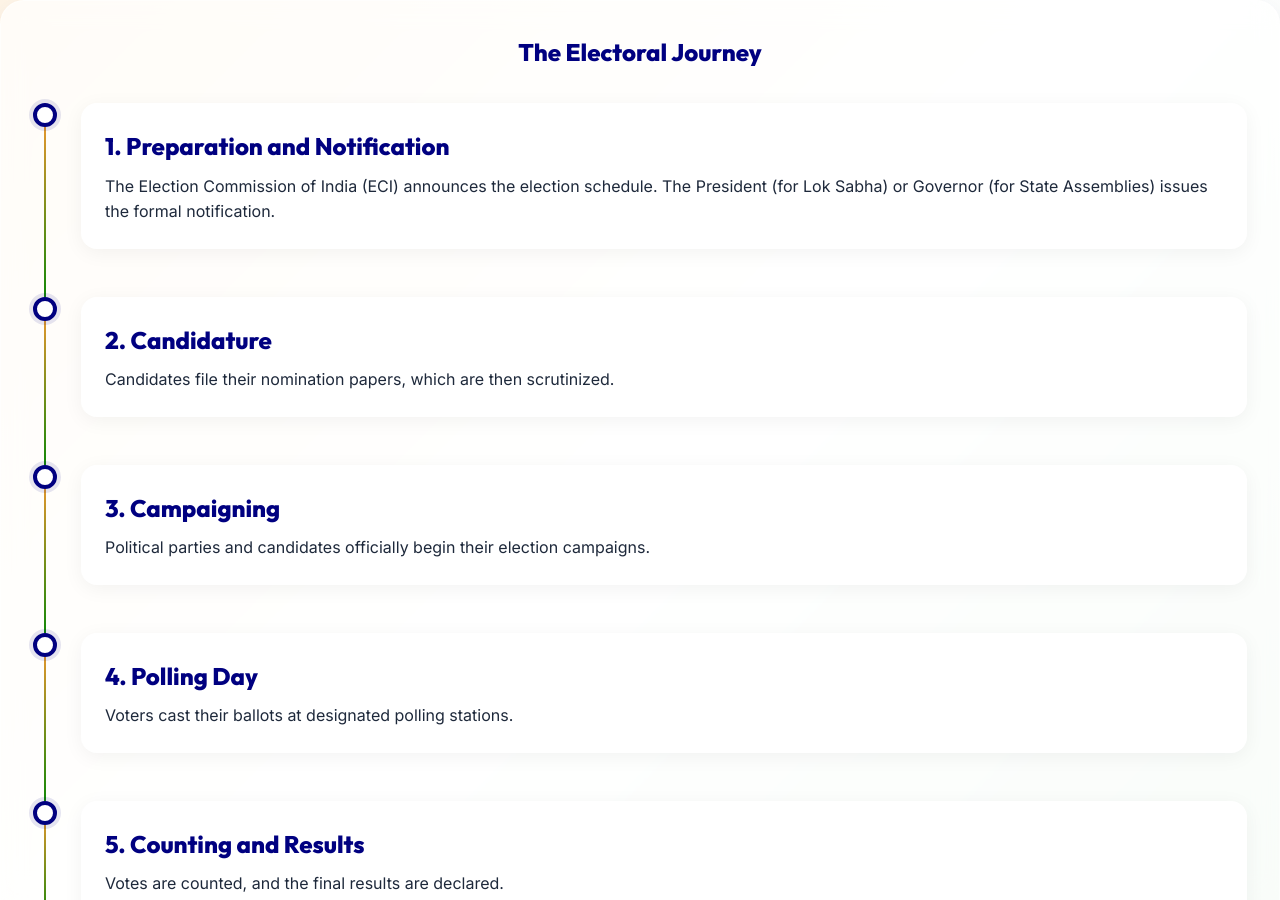
Timeline Component › expands details on click
This screenshot has width=1280, height=900.
Expected: the text "Key Activities:" is not shown
Click the heading "1. Preparation and Notification".
click(277, 146)  # box [105,131,449,161]
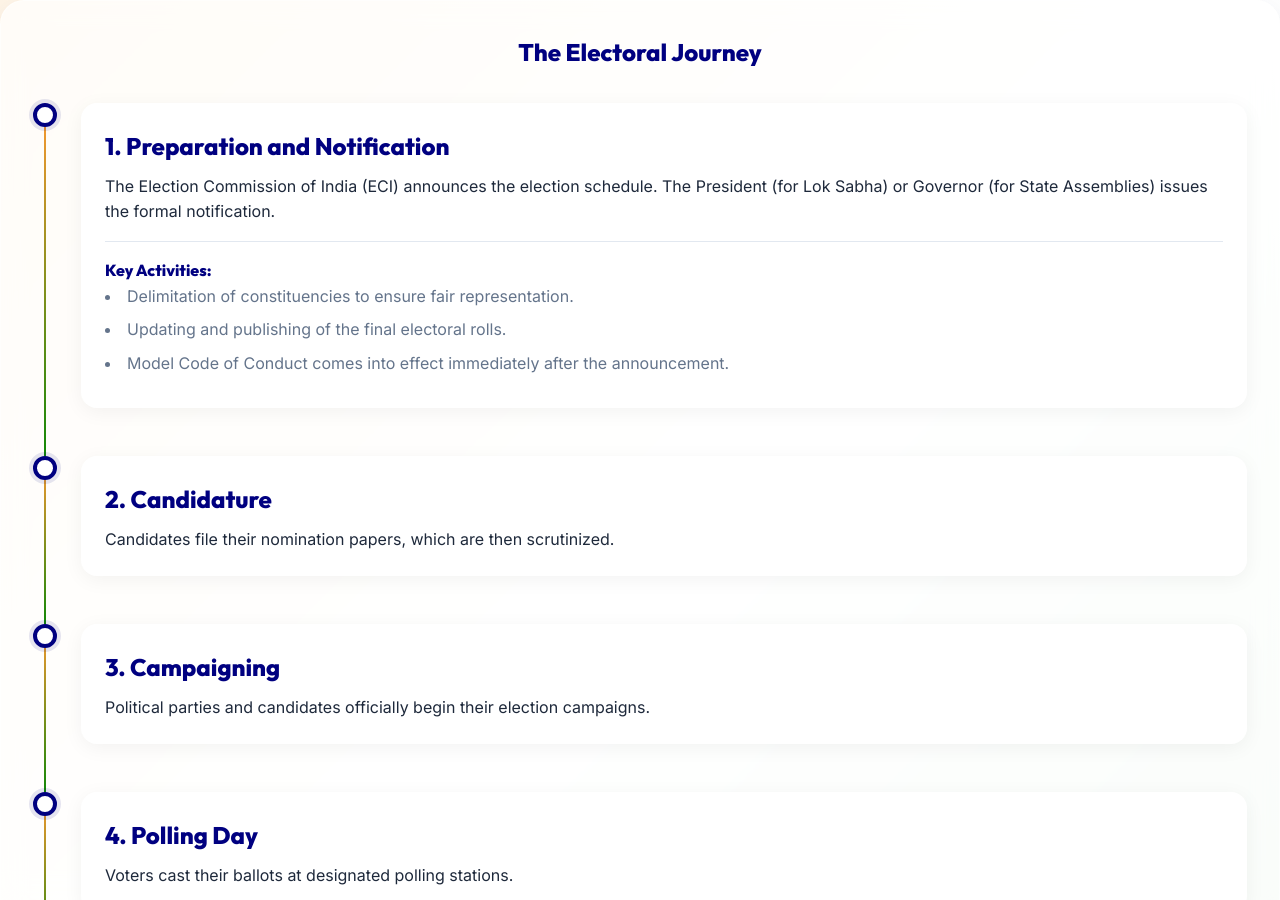
Expected: the heading "Key Activities:" is shown, [105,260,212,280]
Expected: the list item "Model Code of Conduct comes into effect" is shown, [127,353,729,373]
